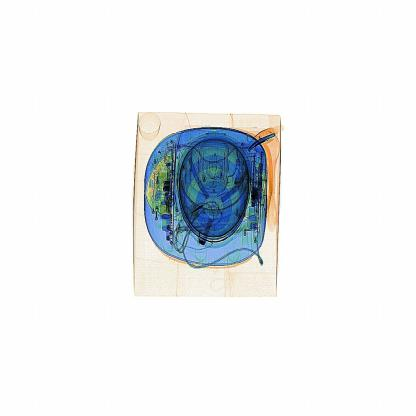pliers: (236, 120, 288, 154)
